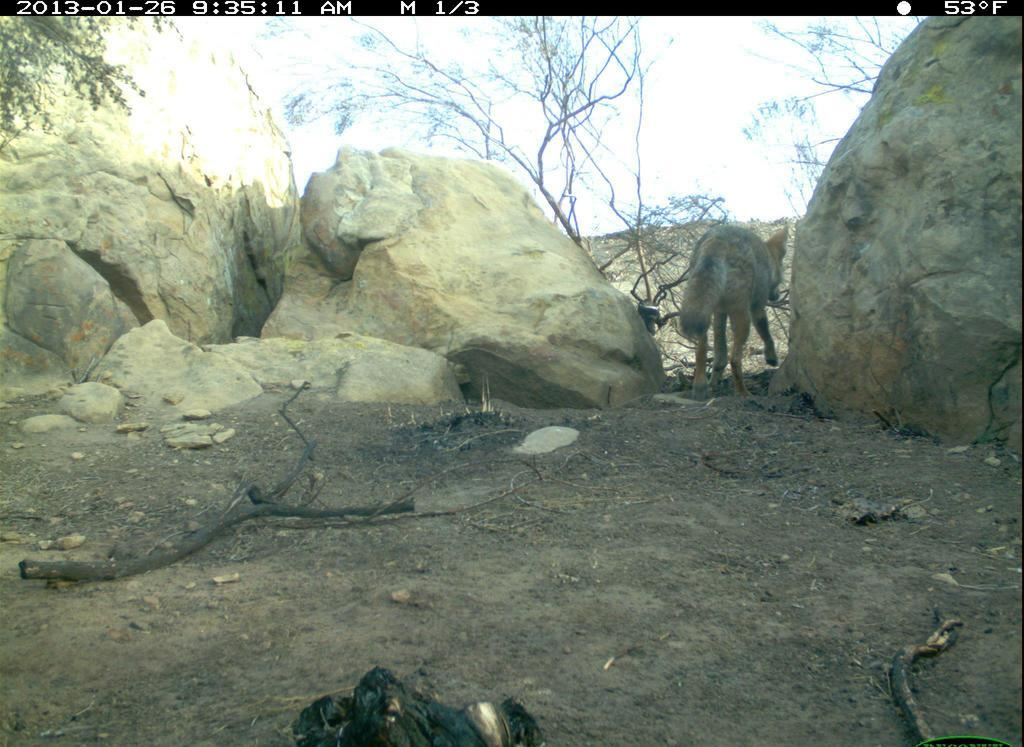coyote: (658, 207, 802, 388)
